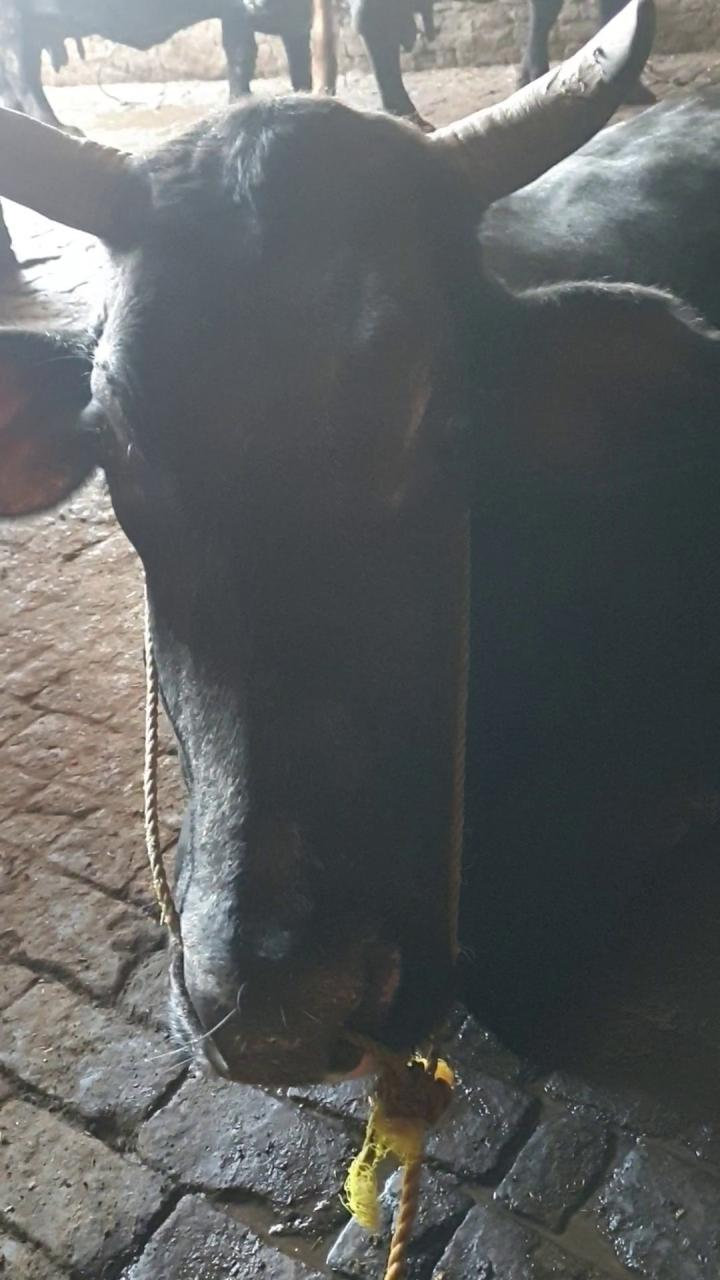cows: (103, 108, 535, 1085)
